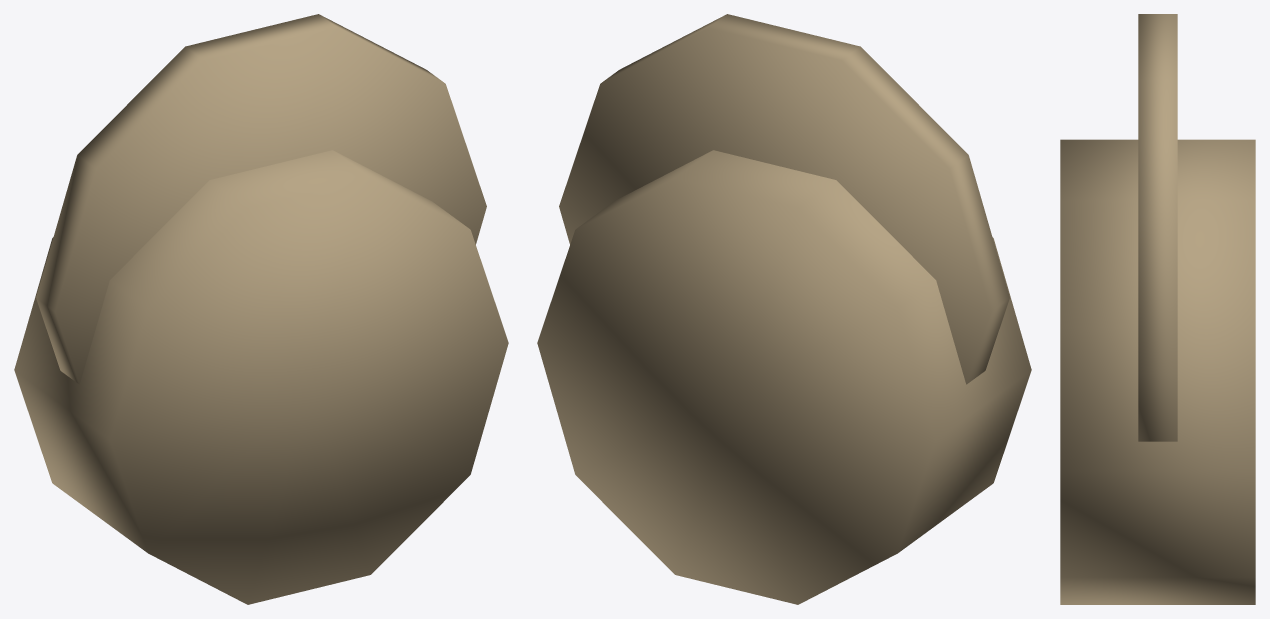
Rendered from prop_basket.glb.
3 renders of one model, left to right at view 1: azimuth 30°, elevation 25°; view 2: azimuth 150°, elevation 25°; view 3: azimuth 270°, elevation 25°, orthographic.
Visible parts, largest first — view 1: base, rim; view 2: base, rim; view 3: base, rim.
Part boxes in pixels (left/top/right/bottom): base: left=14, top=150, right=508, bottom=604; rim: left=36, top=14, right=486, bottom=384; base: left=537, top=150, right=1031, bottom=604; rim: left=559, top=14, right=1009, bottom=384; base: left=1060, top=139, right=1255, bottom=604; rim: left=1138, top=14, right=1177, bottom=441.
Size of the model in its own units: 0.26 by 0.2978 by 0.1.
